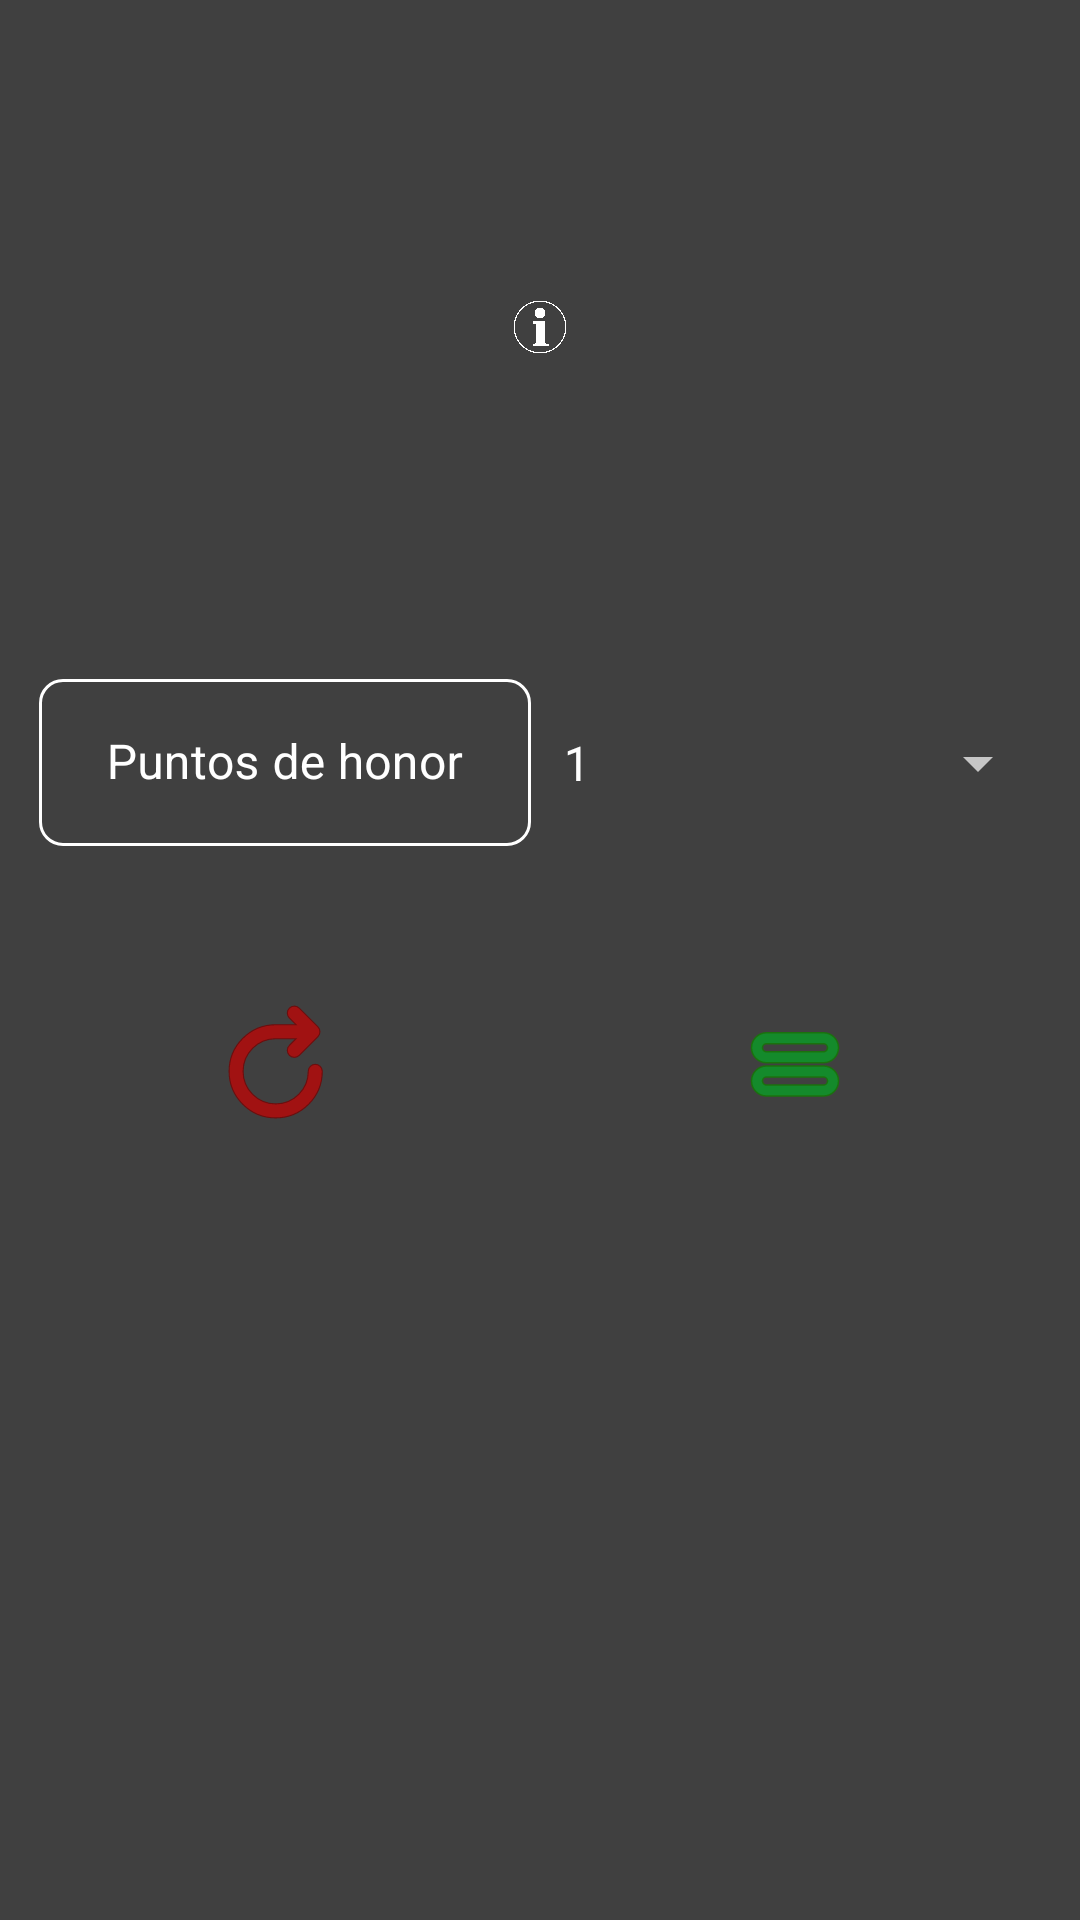

Locate icon controls on the screen. Image size 1080px×1920px, boxes as {"x1": x1, "y1": y1, "x2": x2, "y2": y2}.
equals: {"x1": 751, "y1": 1032, "x2": 839, "y2": 1097}
info: {"x1": 514, "y1": 301, "x2": 566, "y2": 353}
redo: {"x1": 228, "y1": 1006, "x2": 323, "y2": 1119}
